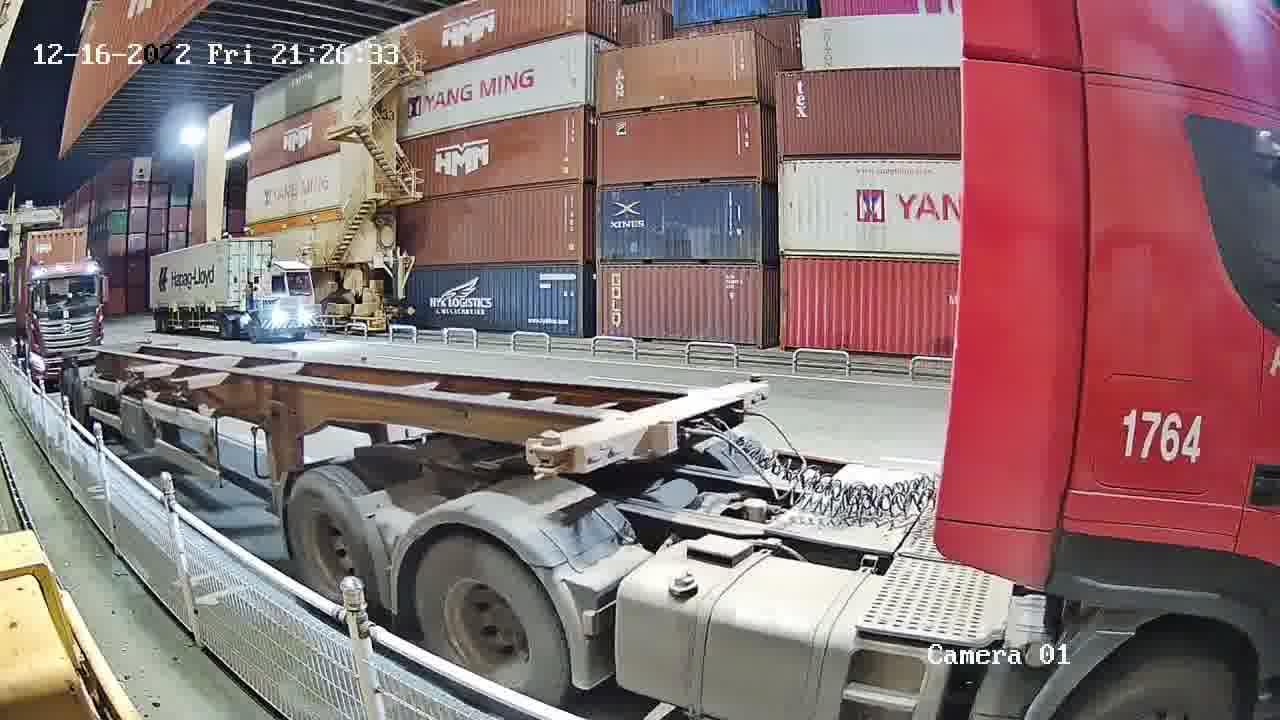Chassis: (522, 375, 766, 473)
Cone: (531, 449, 565, 485)
Tire: (417, 542, 574, 706), (288, 476, 384, 621)
